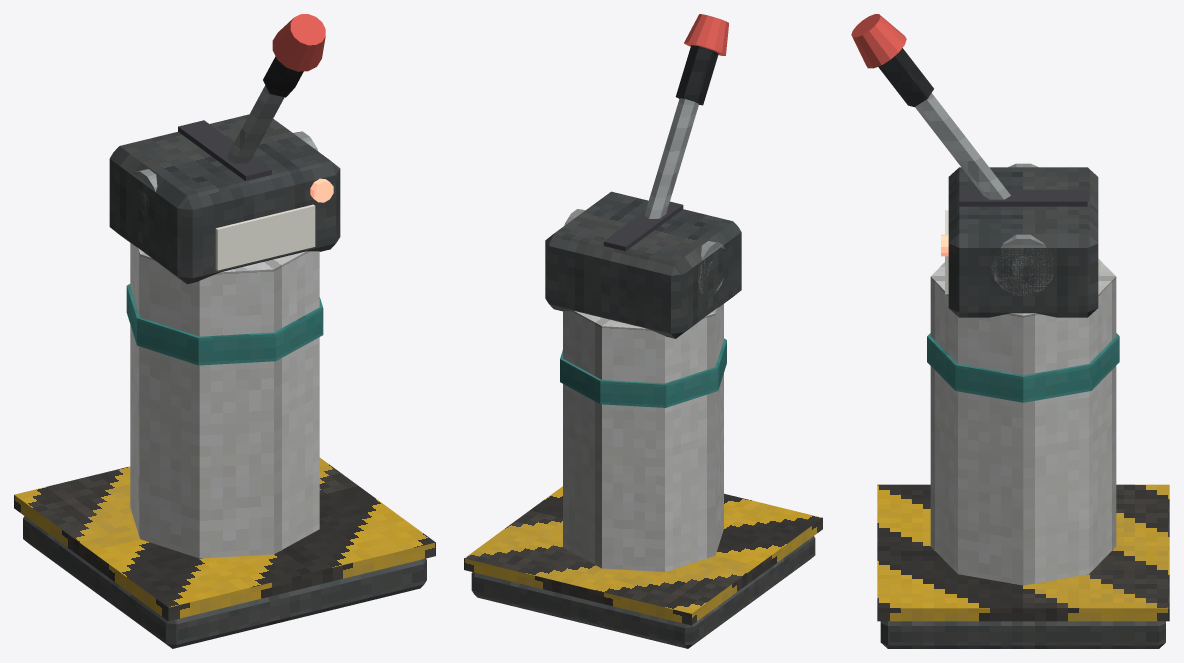
File: portal_lever.glb
The picture shows the model from 3 angles, left to right: view 1: azimuth 30°, elevation 25°; view 2: azimuth 150°, elevation 25°; view 3: azimuth 270°, elevation 25°; orthographic projection. The views are drawn at different scales.
Visible parts, largest first — view 1: body, handle; view 2: body, handle; view 3: body, handle.
Boxes of the visible parts, <box> form: body: <box>14,114,435,648</box>; handle: <box>141,14,325,214</box>; body: <box>464,191,822,648</box>; handle: <box>644,14,728,275</box>; body: <box>877,163,1169,648</box>; handle: <box>851,14,1034,275</box>.
Size of the model in its own units: 0.82 by 1.78 by 0.8926.
Materials: 11 (6 with a texture image).
